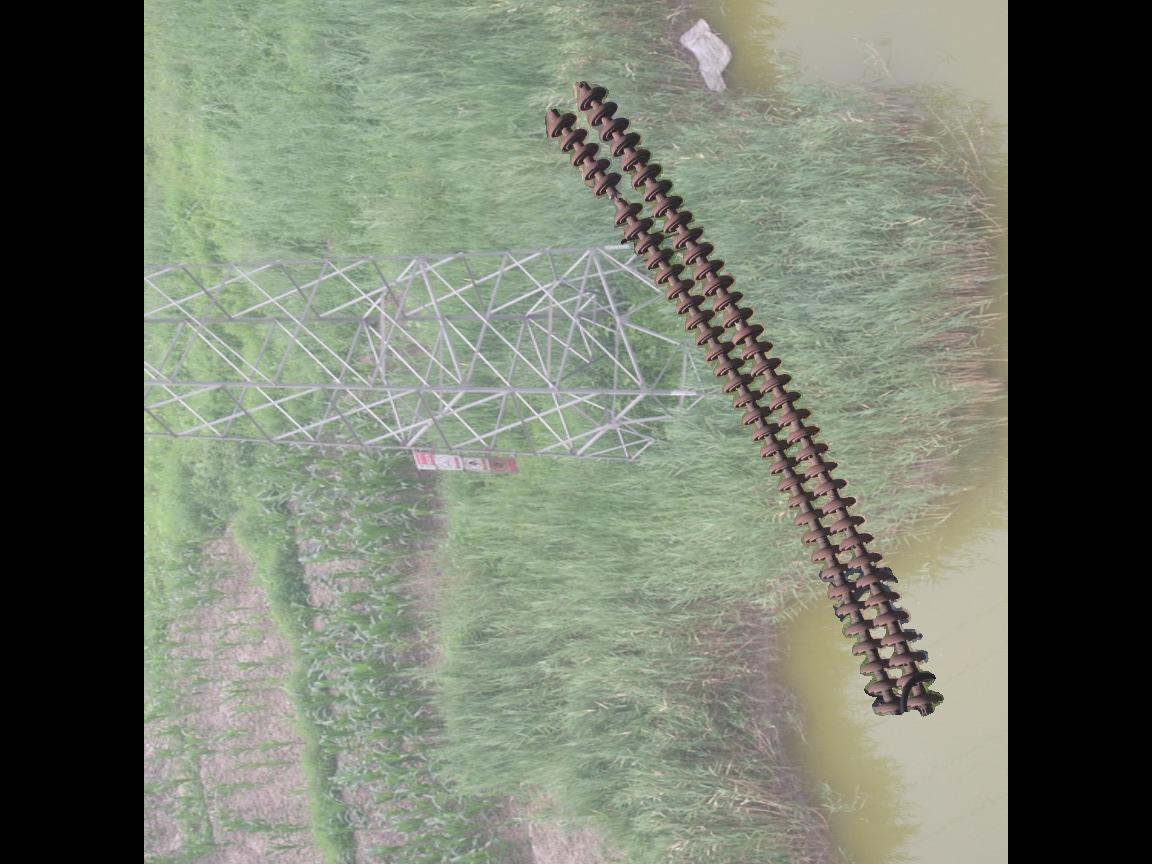insulator: (542, 77, 951, 725)
insulator_stringdrop: (589, 170, 645, 229)
